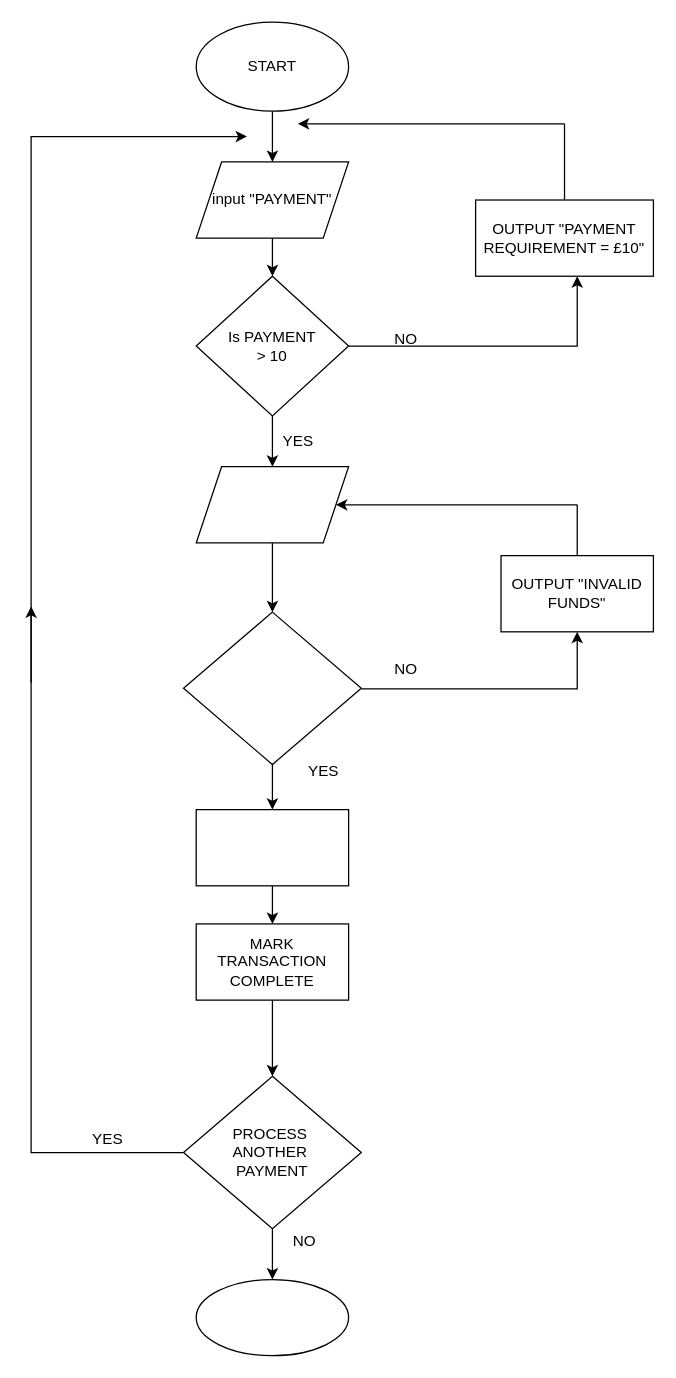
This 676x1378 diagram has some shape labels left out. Here are the shapes that lost their labels. From the top down, the centre of each, then its label:
point 272,504: INPUT "CARD"
point 271,688: IS CARD VALID
point 272,847: PRINT RECIEPT
point 272,1317: END
